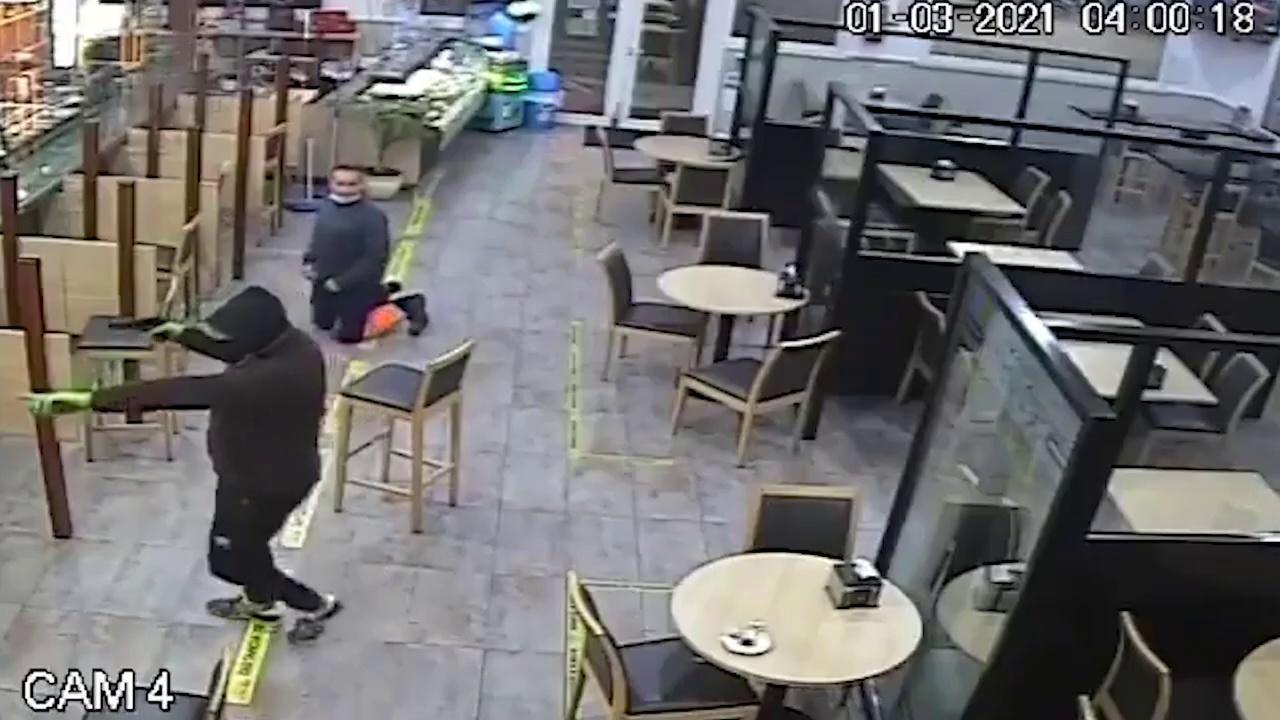Guns: (92, 295, 197, 360)
